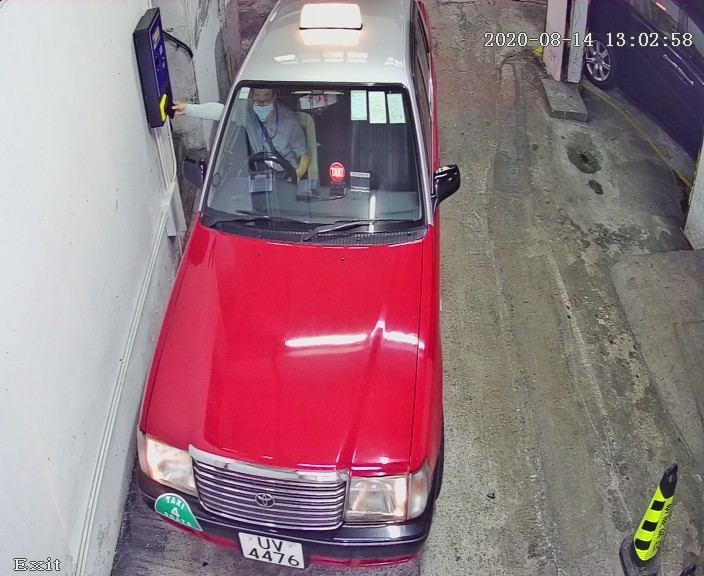taxi: (126, 10, 466, 576)
taxi_mark: (151, 490, 210, 532)
